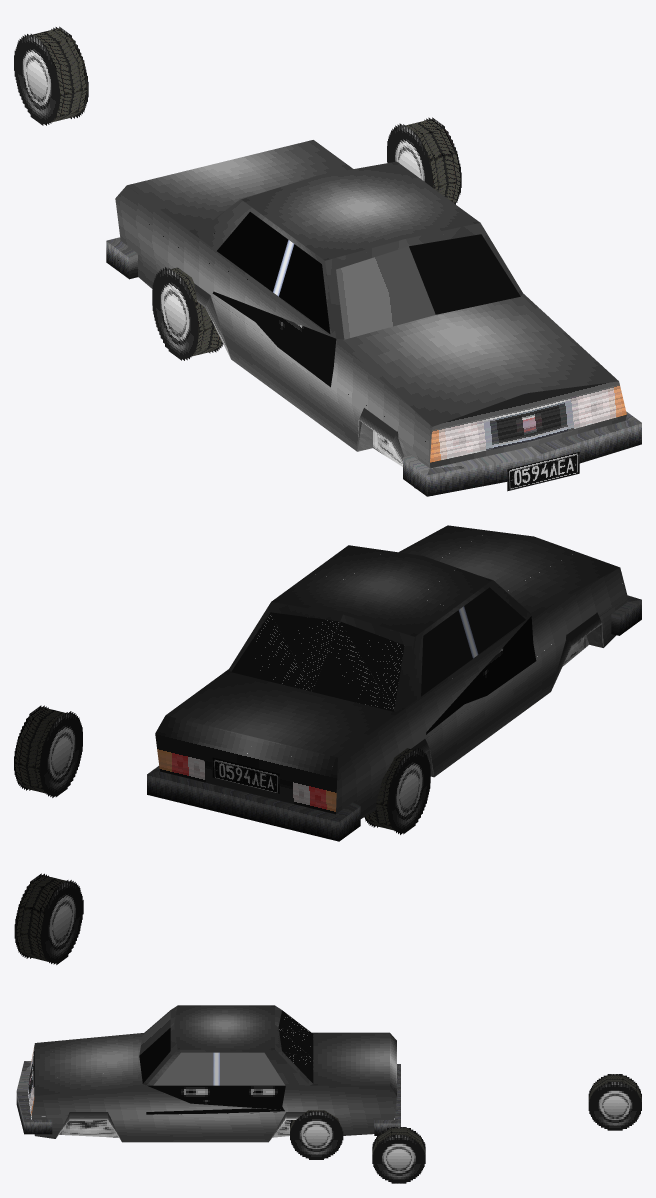
Rendered from PcarzilZ.obj.
3 renders of one model, top to bottom at view 1: azimuth 30°, elevation 25°; view 2: azimuth 150°, elevation 25°; view 3: azimuth 270°, elevation 25°, orthographic. The views are drawn at different scales.
Bounding box in the file's own units: 1073 × 556 × 3008.
17 materials, 17 textured.
